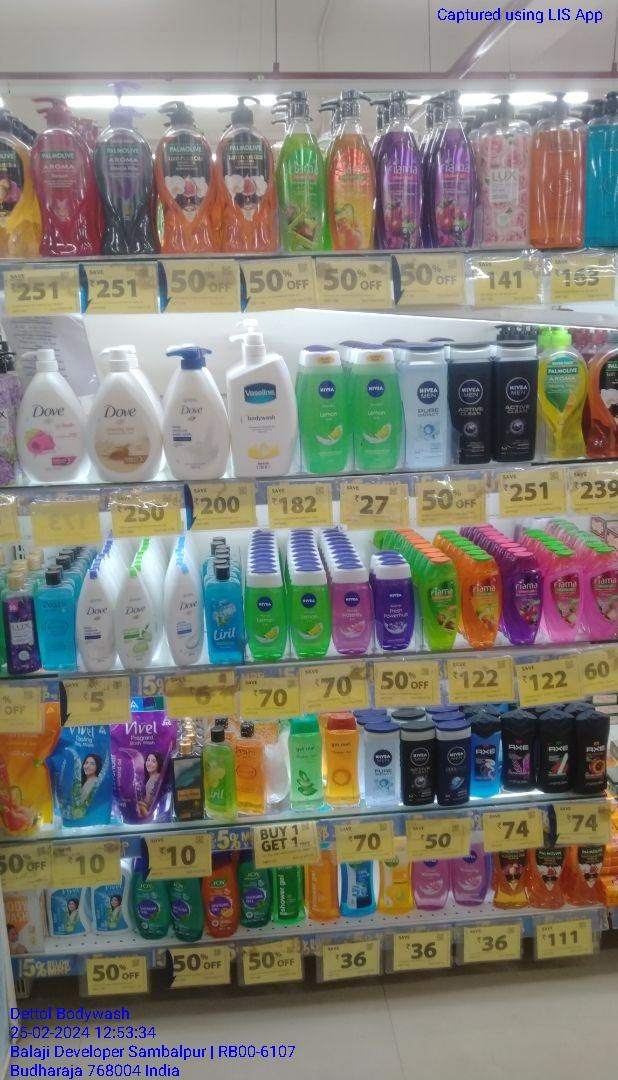Dettol_Bodywash_Cool: (343, 860, 377, 917)
Dettol_Bodywash_Refresh: (380, 860, 411, 915)
Dove_Deep_Moisture_Body_Wash_250ML: (77, 570, 114, 670)
Dove_Gentle_Exfoliating_Body_Wash_250ML: (166, 566, 201, 666)
Dove_Refreshing_Body_Wash_250ML: (116, 569, 157, 668)
Fiama_Shower_Gel_Lemongrass_and_Jojoba_250ML: (425, 560, 461, 651)
Fiama_Shower_Gel_Patchouli_and_Macadamia_250ML: (546, 551, 583, 642), (585, 549, 618, 639)
Fiama_Shower_Gel_Peach_and_Avocado_250ML: (463, 558, 502, 648)
Get_Real_Shower_Gel_Moisturising_Glycerin_300ML: (325, 716, 359, 806)
Joy_Shower_Gel_Mandarin_and_Lemongrass_250ML: (200, 855, 236, 938)
Liril_Cooling_Mint_Body_Wash_250ML: (206, 567, 243, 665)
Liril_Lime_and_Tea_Tree_Oil_Body_Wash_250ML: (203, 730, 236, 819)
Lux_Black_Orchid_Scent_and_Juniper_Oil_Body_Wash_245ML: (5, 572, 35, 676)
Nivea_Shower_Gel_Fresh_Powerfruit_250ML: (376, 566, 415, 650)
Nivea_Shower_Gel_Lemon_and_Oil_250ML: (353, 348, 403, 473), (301, 350, 348, 473), (246, 572, 284, 662), (292, 569, 329, 659)
Nivea_Shower_Gel_Waterlily_and_Oil_250ML: (334, 569, 373, 656), (452, 831, 489, 905), (414, 860, 447, 912)
Palmolive_Luminous_Oils_Invigorating_Macadamia_Oil_With_Peony_250ML: (494, 850, 531, 908)
Palmolive_Luminous_Oils_With_White_Orchid_Shower_Gel_250ML: (533, 846, 568, 909), (568, 844, 602, 906)
Pears_Pure_Glycerin_and_Mint_Extracts_Body_Wash_250ML: (36, 571, 76, 672)
